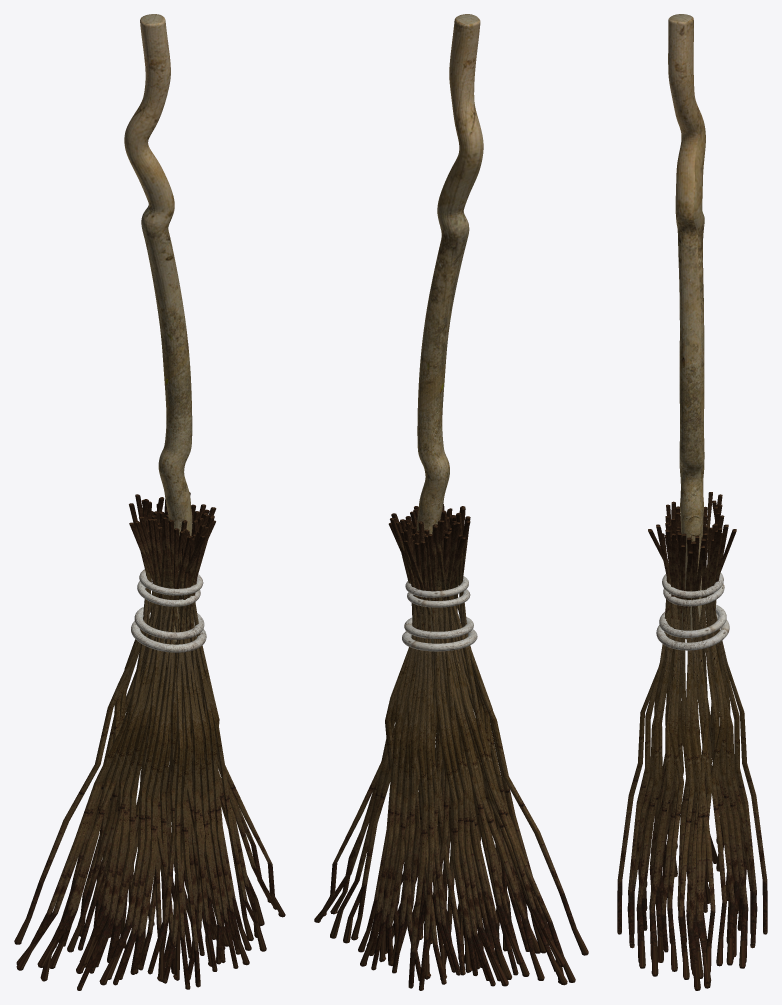
The model's file is broom.obj.
3 views of the same model, side by side, from view 1: azimuth 30°, elevation 25°; view 2: azimuth 150°, elevation 25°; view 3: azimuth 270°, elevation 25° (orthographic). The views are drawn at different scales.
Parts seen in each view (by area): view 1: bottom_Cube.001, handle_Cube, metal_rings_Circle; view 2: bottom_Cube.001, handle_Cube, metal_rings_Circle; view 3: bottom_Cube.001, handle_Cube, metal_rings_Circle.
Boxes of the visible parts, x1,y1,x2,y2 form: bottom_Cube.001: (14,492,285,990); handle_Cube: (124,14,192,642); metal_rings_Circle: (131,569,206,652); bottom_Cube.001: (314,504,588,990); handle_Cube: (417,14,483,643); metal_rings_Circle: (402,576,477,651); bottom_Cube.001: (617,492,767,990); handle_Cube: (668,14,705,640); metal_rings_Circle: (656,565,729,650).
Bounding box in the file's own units: 3.56 × 12.52 × 1.84.
